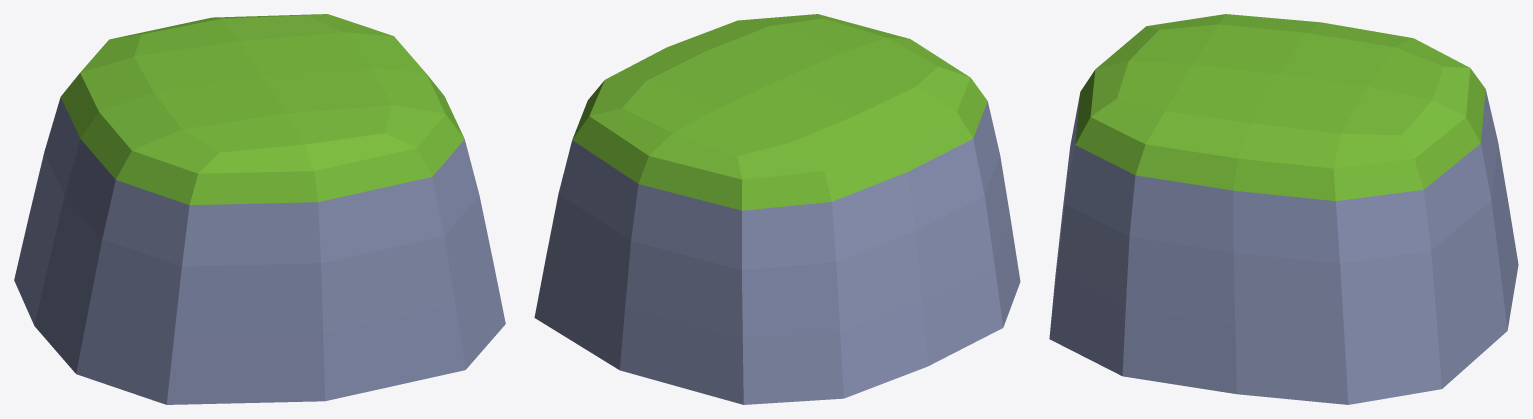
The model's file is Rock_31.fbx.
3 renders of one model, left to right at view 1: azimuth 30°, elevation 25°; view 2: azimuth 150°, elevation 25°; view 3: azimuth 270°, elevation 25°, orthographic. The views are drawn at different scales.
Visible parts, largest first — view 1: Rock_31; view 2: Rock_31; view 3: Rock_31.
Part boxes in pixels (<box>): Rock_31: <box>14,14,505,404</box>; Rock_31: <box>534,14,1020,404</box>; Rock_31: <box>1049,14,1518,404</box>.
Bounding box in the file's own units: 4.47 × 2.36 × 4.34.
